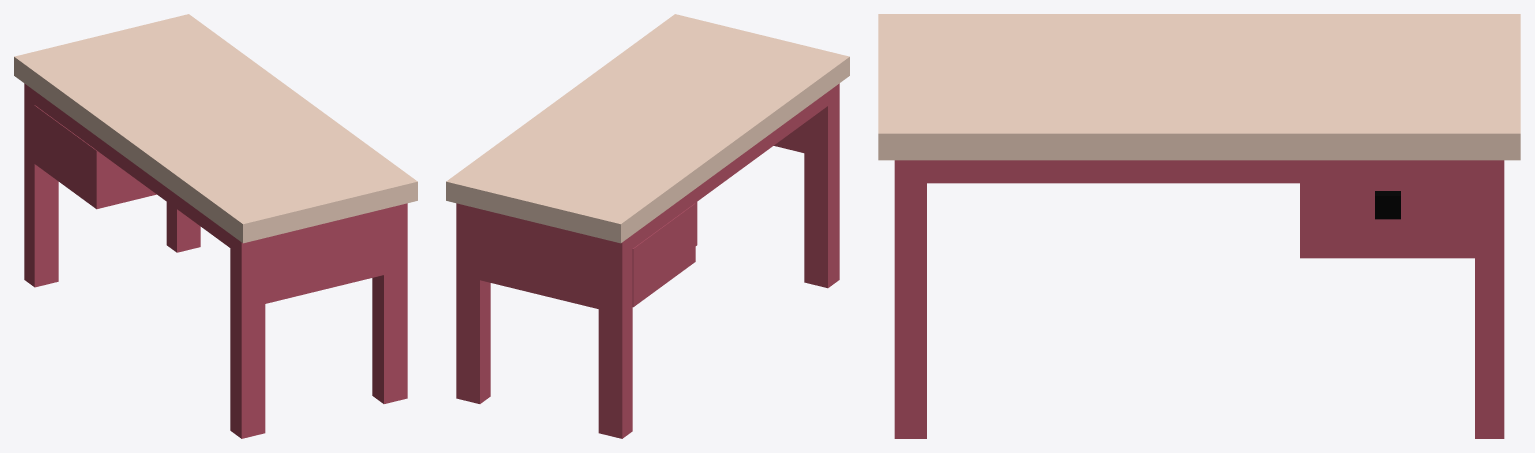
Rendered from Desk2.glb.
The picture shows the model from 3 angles, left to right: view 1: azimuth 30°, elevation 25°; view 2: azimuth 150°, elevation 25°; view 3: azimuth 270°, elevation 25°; orthographic projection. The views are drawn at different scales.
Visible parts, largest first — view 1: Desk2; view 2: Desk2; view 3: Desk2.
Part boxes in pixels (bbox=[...]): Desk2: bbox=[14, 14, 417, 438]; Desk2: bbox=[446, 14, 849, 438]; Desk2: bbox=[878, 14, 1520, 438].
Bounding box in the file's own units: 0.4369 × 0.5255 × 0.9913.
Materials: 1 (1 with a texture image).
